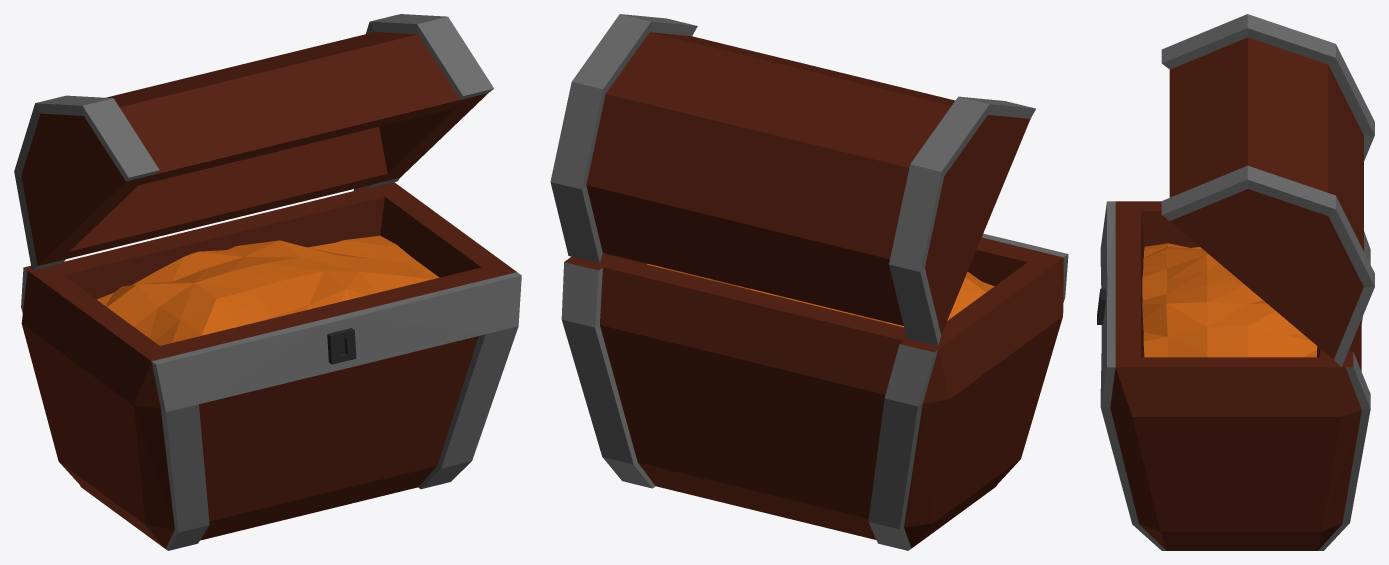
File: Chest_gold1.obj
3 renders of one model, left to right at view 1: azimuth 30°, elevation 25°; view 2: azimuth 150°, elevation 25°; view 3: azimuth 270°, elevation 25°, orthographic. The views are drawn at different scales.
Visible parts, largest first — view 1: ChestBottom_Cube.024, ChestTop_Cylinder.018; view 2: ChestBottom_Cube.024, ChestTop_Cylinder.018; view 3: ChestBottom_Cube.024, ChestTop_Cylinder.018.
Boxes of the visible parts, x1,y1,x2,y2 form: ChestBottom_Cube.024: (21, 182, 521, 550); ChestTop_Cylinder.018: (14, 14, 493, 270); ChestBottom_Cube.024: (561, 233, 1068, 550); ChestTop_Cylinder.018: (550, 14, 1035, 345); ChestBottom_Cube.024: (1097, 201, 1370, 550); ChestTop_Cylinder.018: (1161, 14, 1374, 366).
Bounding box in the file's own units: 0.6741 × 0.709 × 0.4563.
